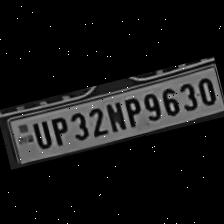0: (191, 72, 217, 106)
2: (83, 101, 109, 137)
3: (64, 106, 90, 142), (174, 77, 198, 112)
6: (155, 82, 181, 118)
9: (137, 88, 162, 122)
N: (101, 97, 126, 132)
P: (46, 110, 72, 146), (119, 92, 143, 128)
U: (26, 115, 52, 150)
